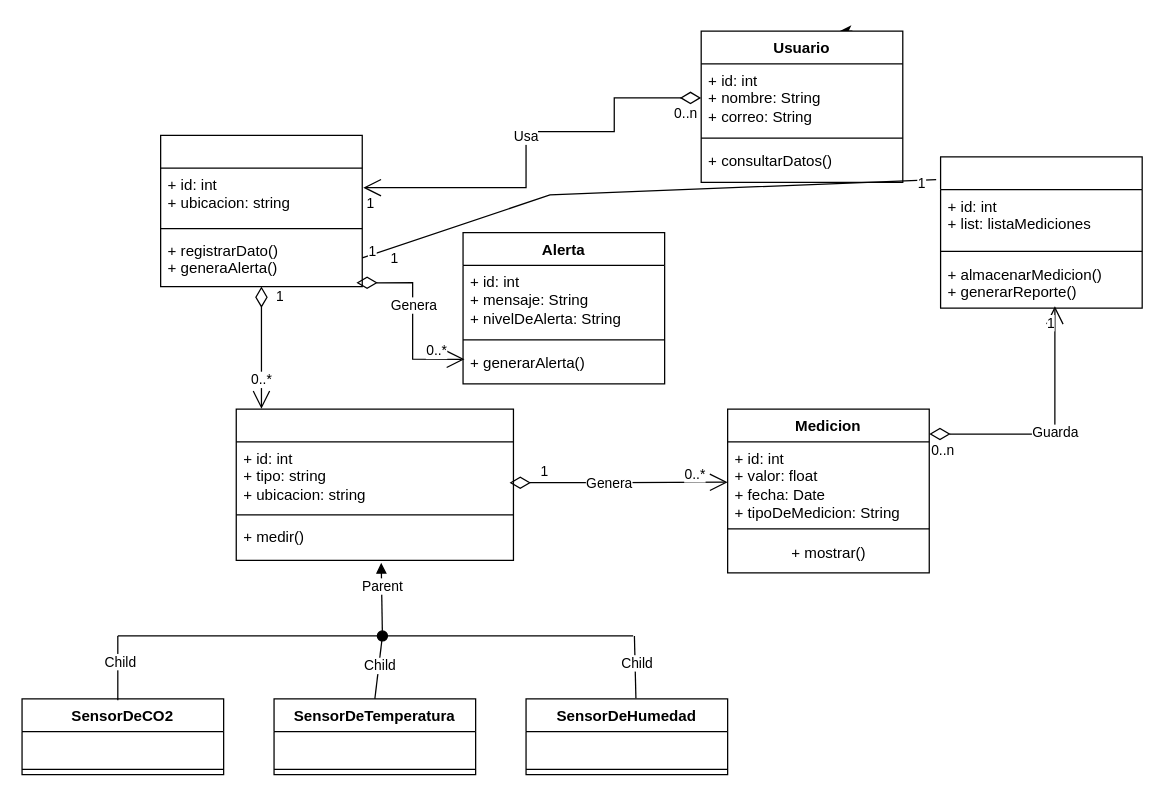
This 1164x798 diagram has some shape labels left out. Each missing label, with the box of its shape:
EstacionDeMonitoreo: (159, 134, 362, 287)
RegistroDeDatos: (939, 156, 1142, 308)
Sensor: (235, 408, 513, 560)
